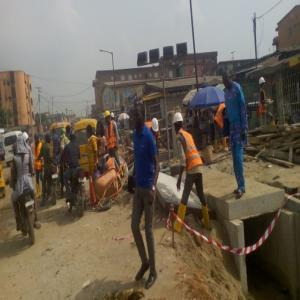blue: (71, 130, 77, 142)
none: (134, 105, 146, 131), (222, 69, 233, 92), (97, 121, 105, 136), (87, 124, 94, 138), (46, 132, 52, 145), (35, 134, 40, 144), (53, 127, 57, 135)
white: (173, 113, 183, 136), (151, 117, 160, 135), (260, 77, 267, 89), (23, 132, 29, 144), (112, 113, 116, 121)
yellow: (104, 111, 111, 125)
